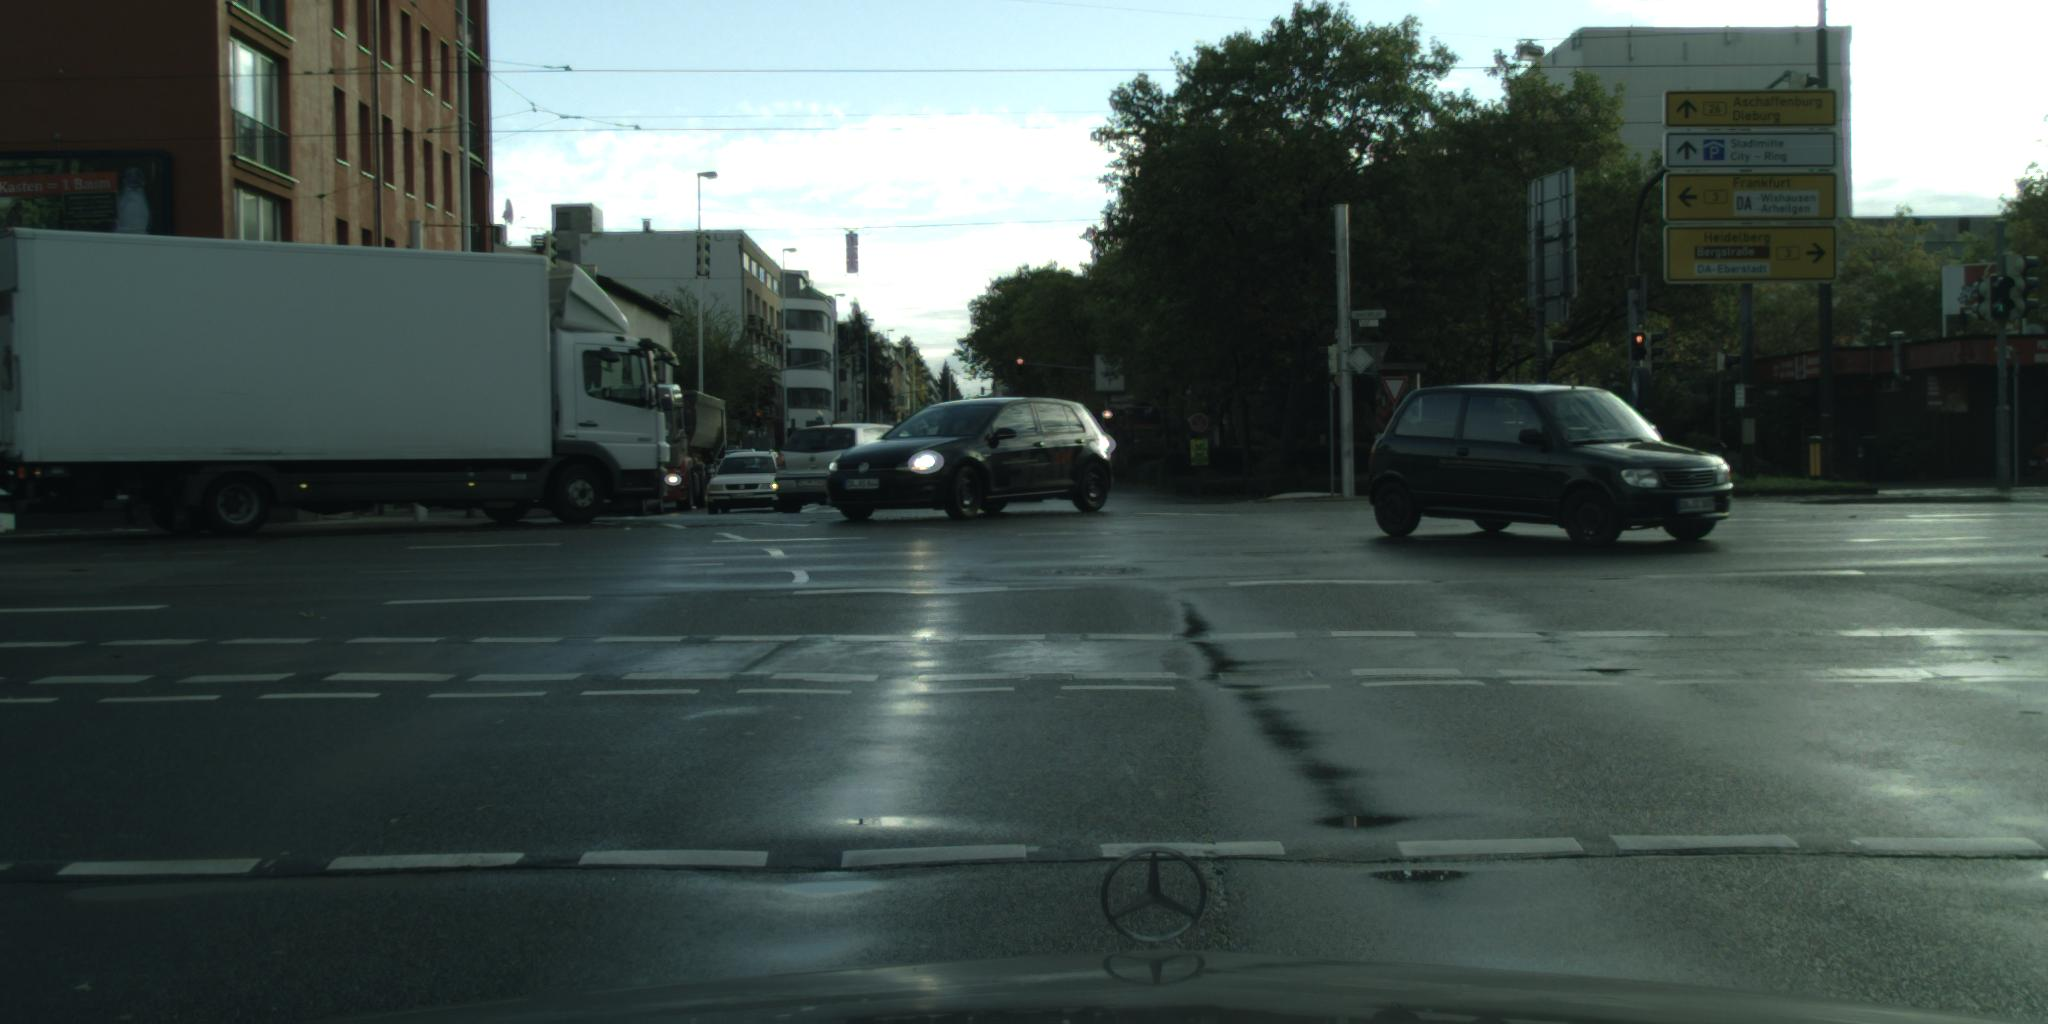car: (1368, 383, 1733, 546), (825, 398, 1117, 521), (776, 424, 908, 515), (707, 451, 795, 515), (596, 488, 666, 516)
truck: (1, 229, 680, 537), (648, 387, 728, 509)
